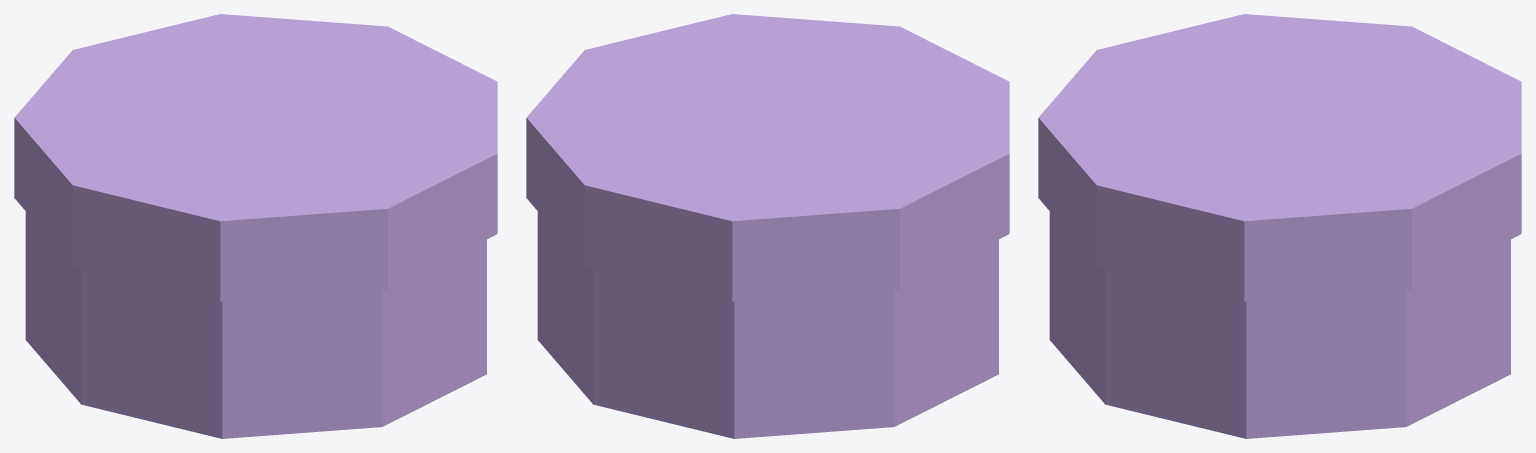
3 renders of one model, left to right at view 1: azimuth 30°, elevation 25°; view 2: azimuth 150°, elevation 25°; view 3: azimuth 270°, elevation 25°, orthographic.
Visible parts, largest first — view 1: Box_11; view 2: Box_11; view 3: Box_11.
Part boxes in pixels (x1,y1,x2,y2): Box_11: (14,14,497,438); Box_11: (526,14,1009,438); Box_11: (1038,14,1521,438).
Size of the model in its own units: 20.97 by 20.65 by 10.49.
